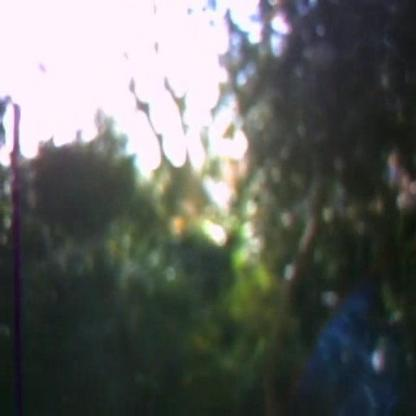other: (2, 5, 244, 220)
